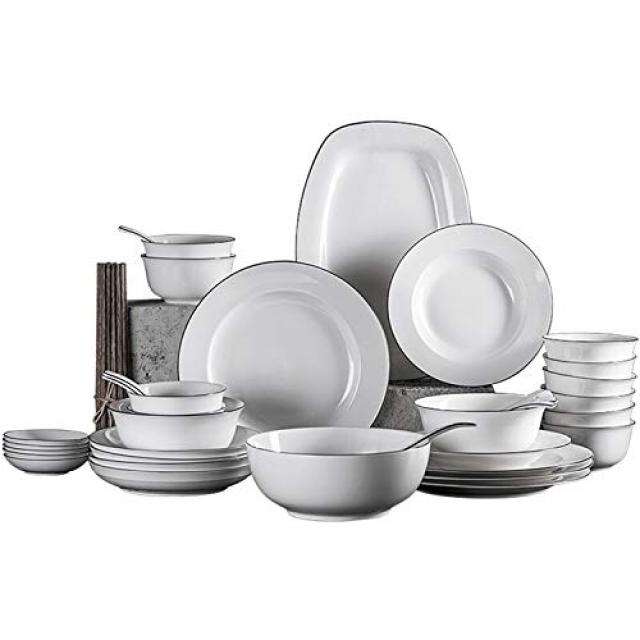non-organic waste: (196, 257, 376, 451)
